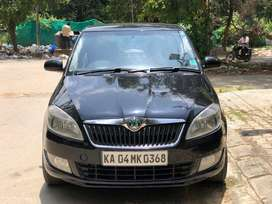KA04MK0368: (101, 151, 167, 165)
